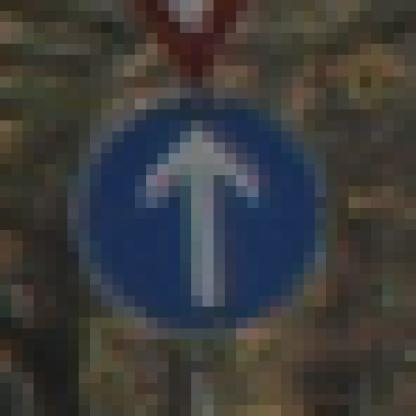AheadOnly: (57, 67, 361, 362)
